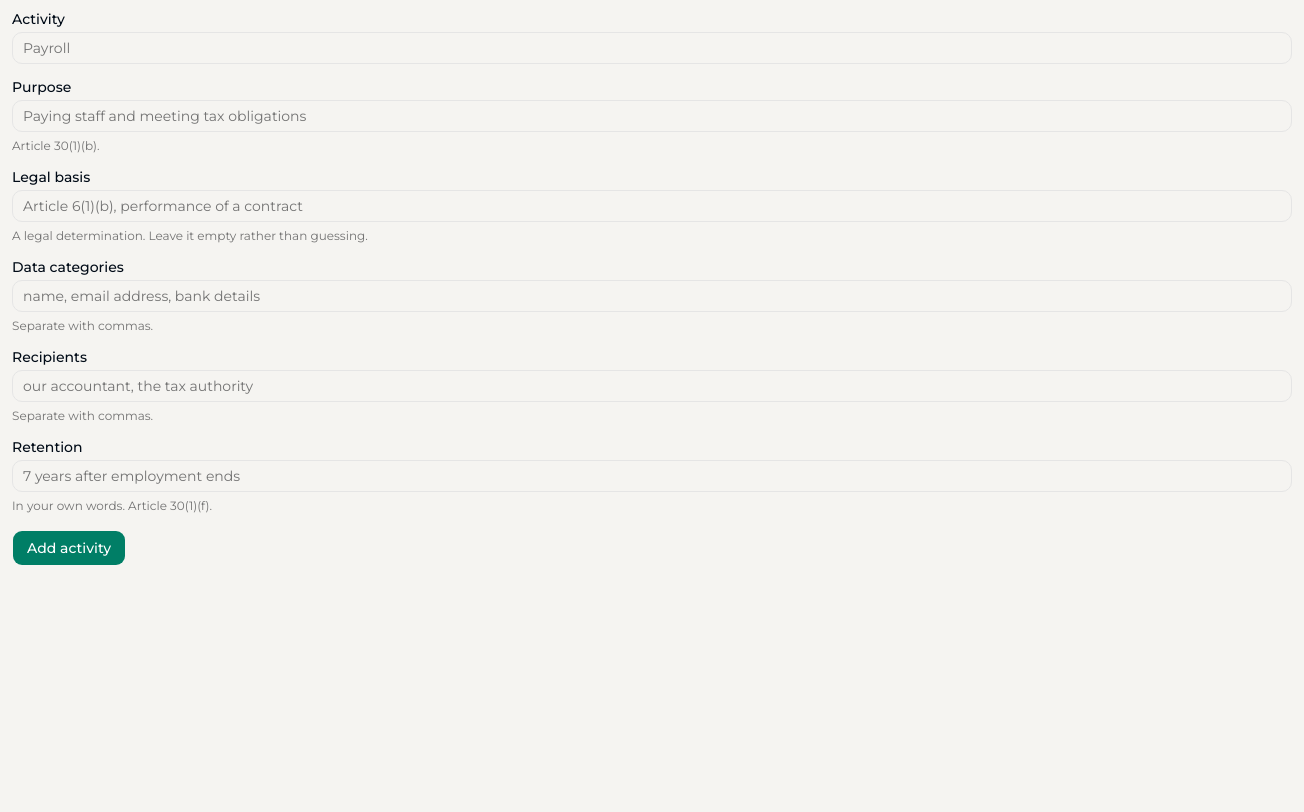
Test: what a form says after an attempt › puts the outcome in a live region
This screenshot has width=1304, height=812.
Type "x" into the field labelled "Activity" at (652, 48), box [12,32,1292,64]
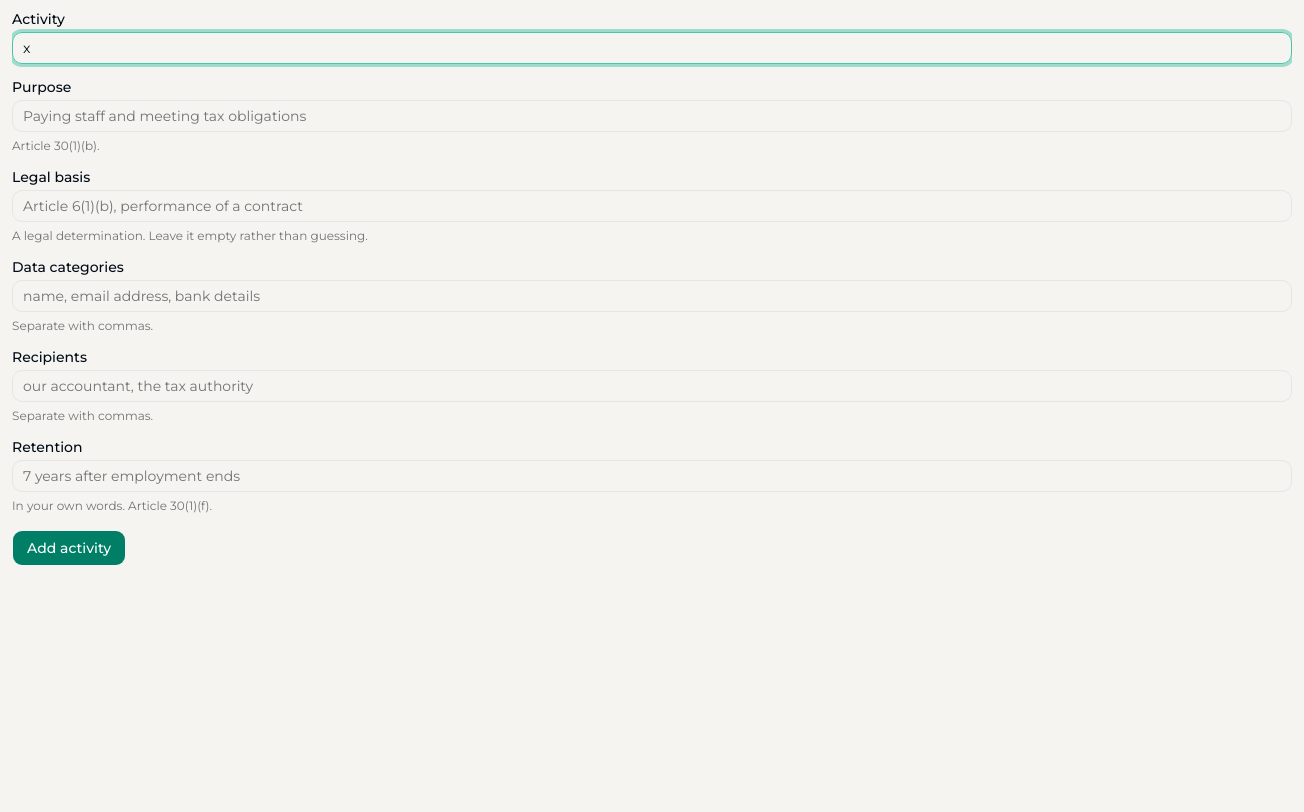
Click the button "Add activity" at (69, 548), box [12,530,126,566]
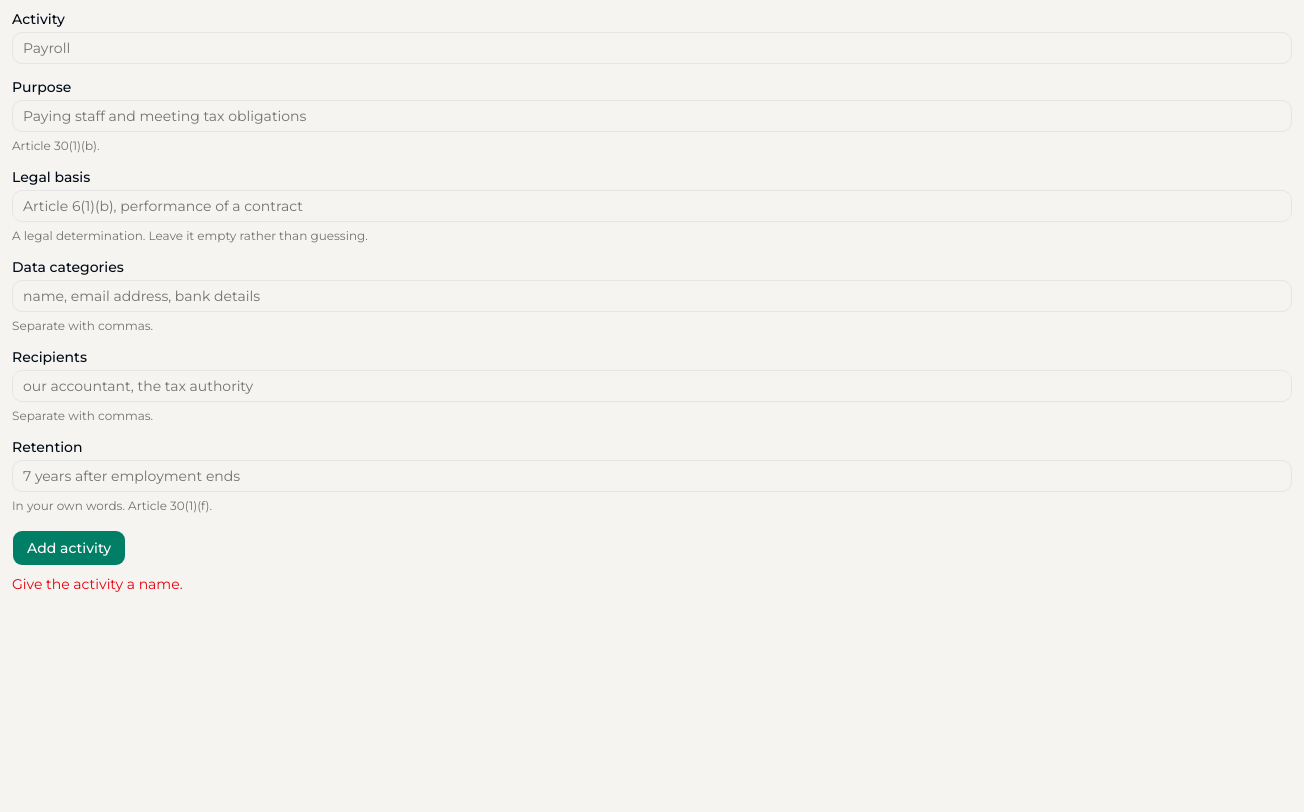
Check: the message with test id "record-form-message" reads "Give the activity a name.", box [12,575,183,593]
